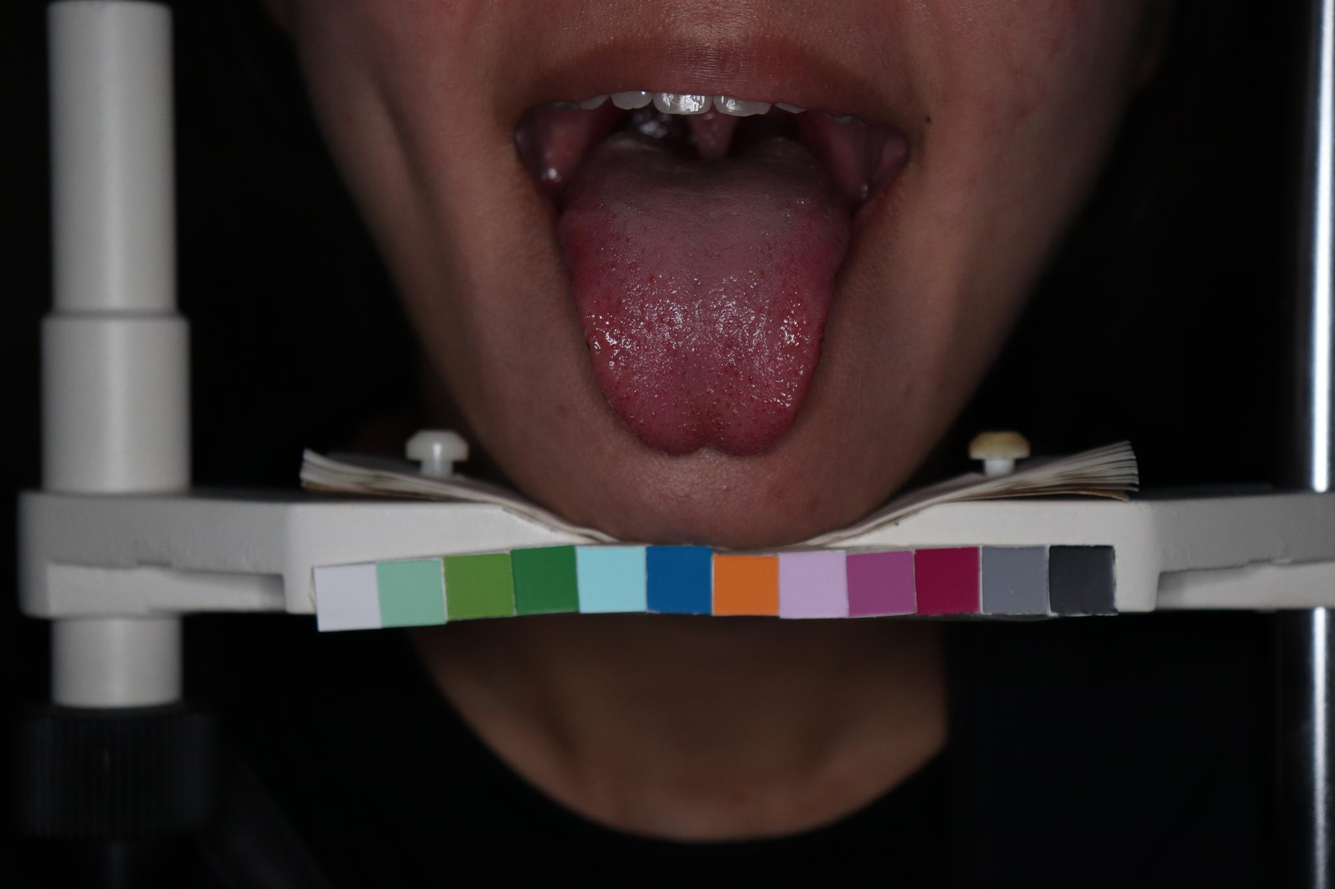baitaishe: (556, 126, 848, 457)
hongdianshe: (645, 274, 656, 285), (671, 398, 681, 409), (747, 373, 756, 383), (650, 408, 658, 417), (748, 392, 755, 402), (680, 352, 688, 360), (761, 380, 768, 389), (724, 398, 729, 407)
hongshe: (556, 126, 848, 457)
xinfeiao: (660, 430, 750, 459)
